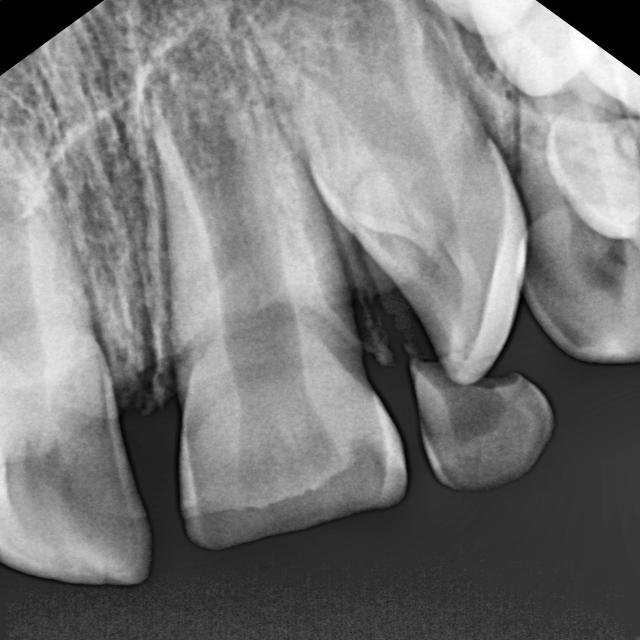Normal: (111, 26, 443, 572), (0, 79, 167, 596)
